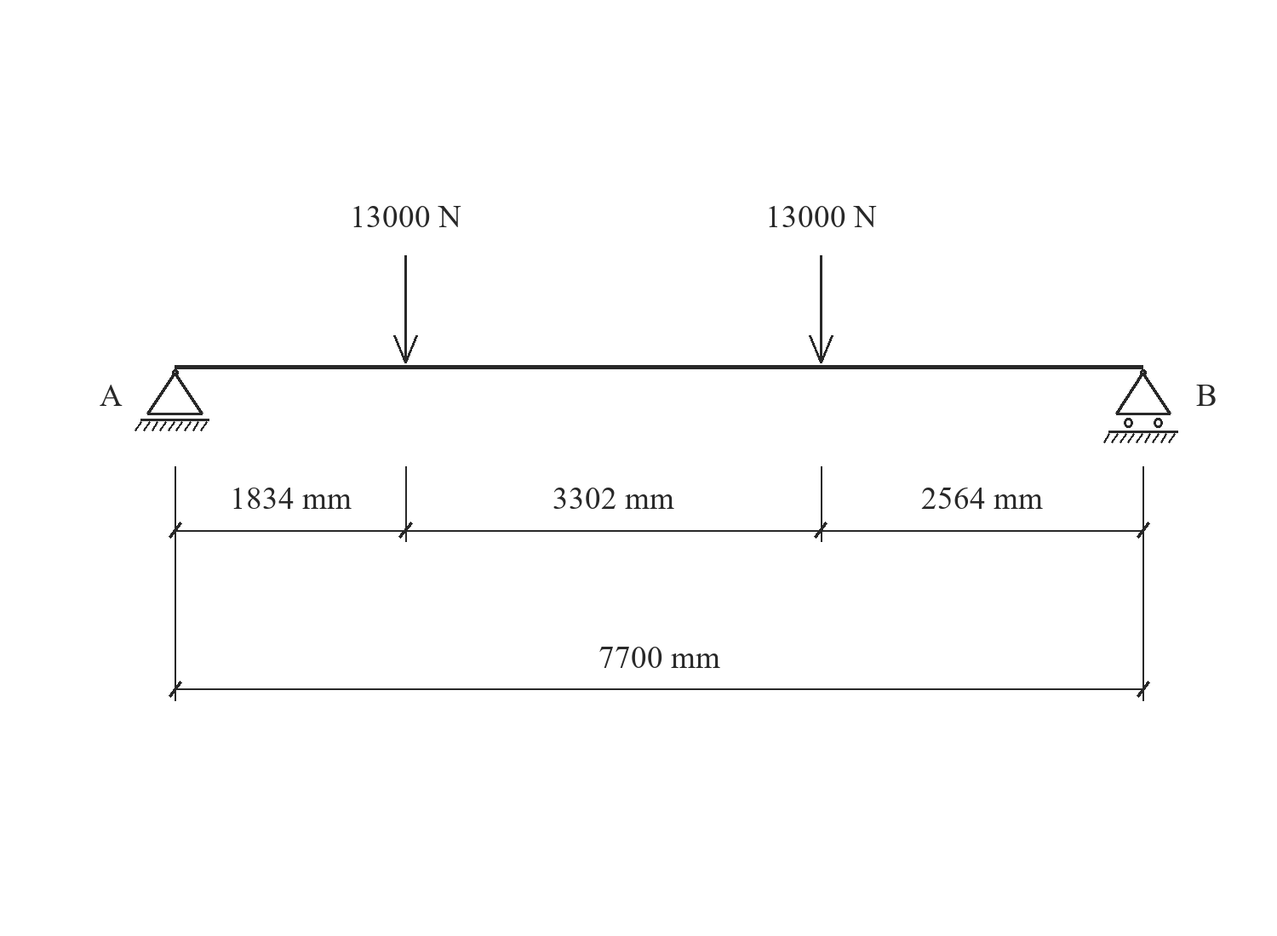pin_support: (135, 369, 209, 431)
point_load: (393, 255, 418, 363), (809, 255, 833, 363)
roller_support: (1103, 369, 1178, 443)
